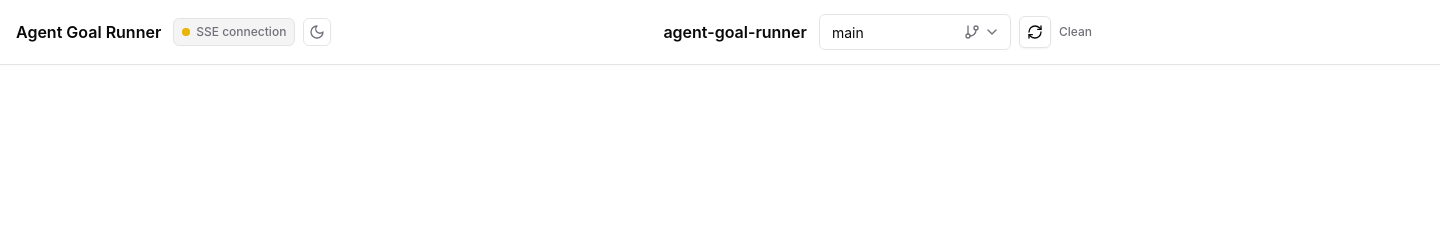
Test: TopBar › switches and creates branches from the branch selector
Click the dropdown named "Git branch": coordinates (888, 32) [820,14,956,50]
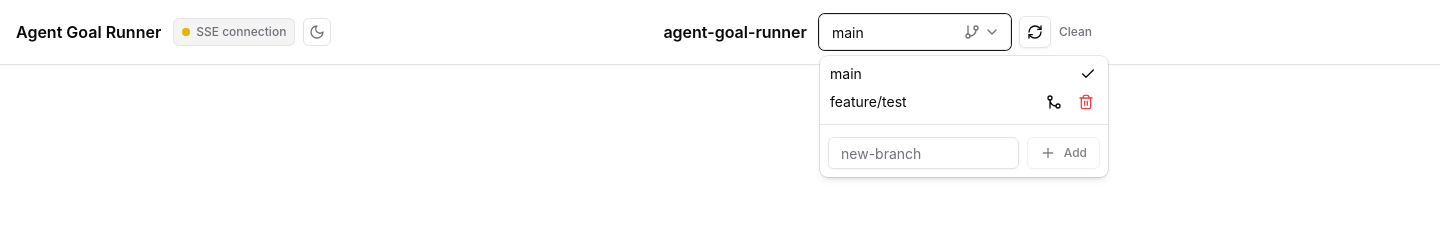
Click the option "feature/test": coordinates (868, 102) [824,88,1104,116]
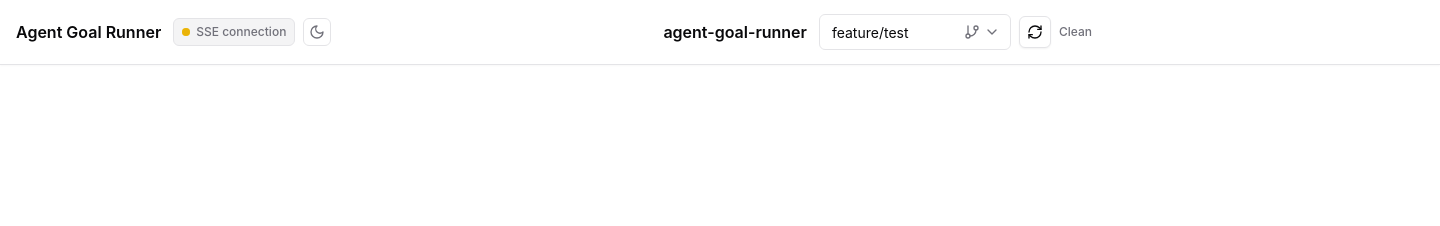
Expected: the dropdown named "Git branch" holds "feature/test"
Click the dropdown named "Git branch": coordinates (888, 32) [820,14,956,50]
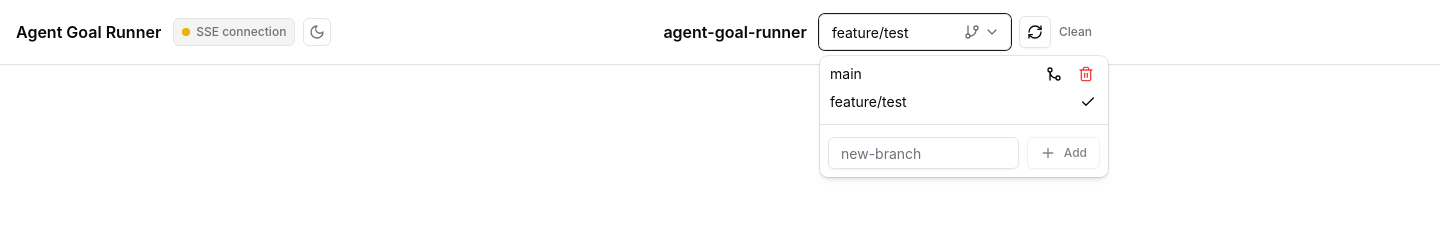
In the field named "New branch name": coordinates (923, 153) [828,137,1019,169], type "feature/new"
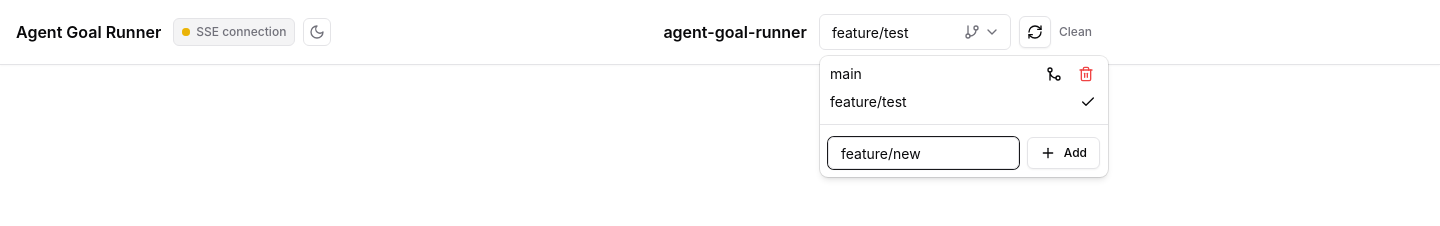
Click the button "Add": coordinates (1063, 153) [1027,137,1100,169]
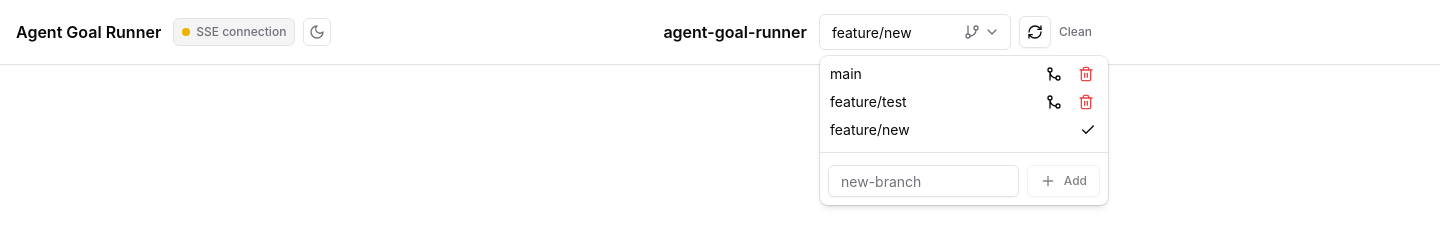
Expected: the dropdown named "Git branch" holds "feature/new", [820,14,956,50]
